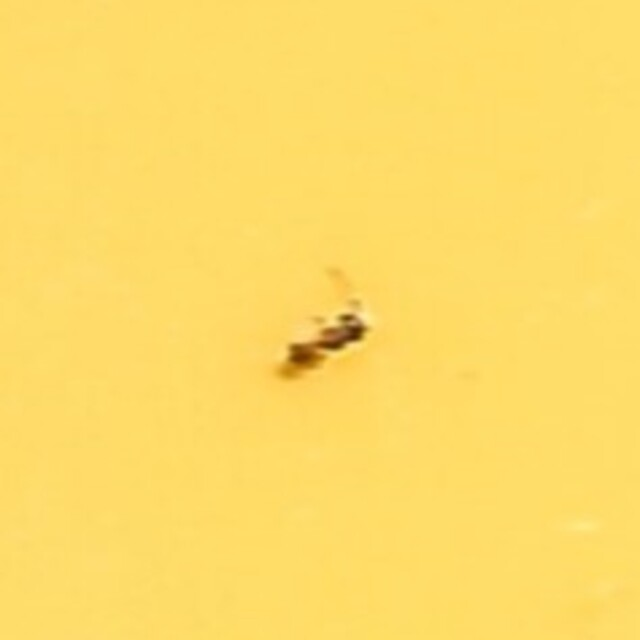Hymenoptera: (270, 260, 370, 380)
